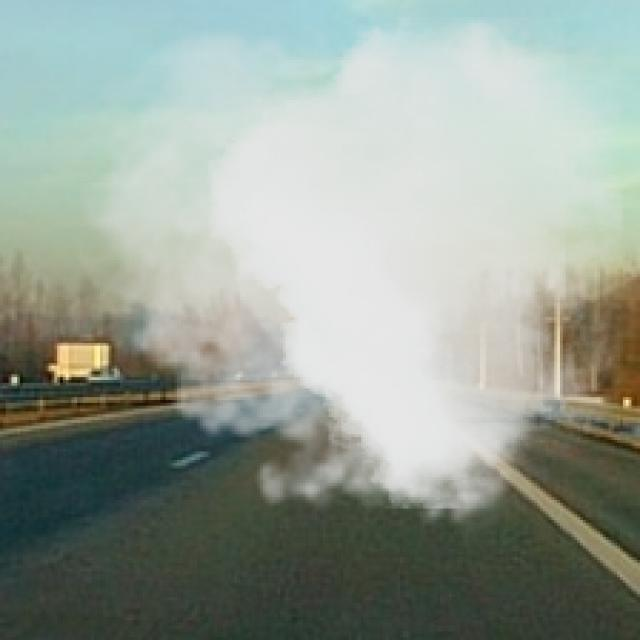smoke: (63, 17, 623, 540)
